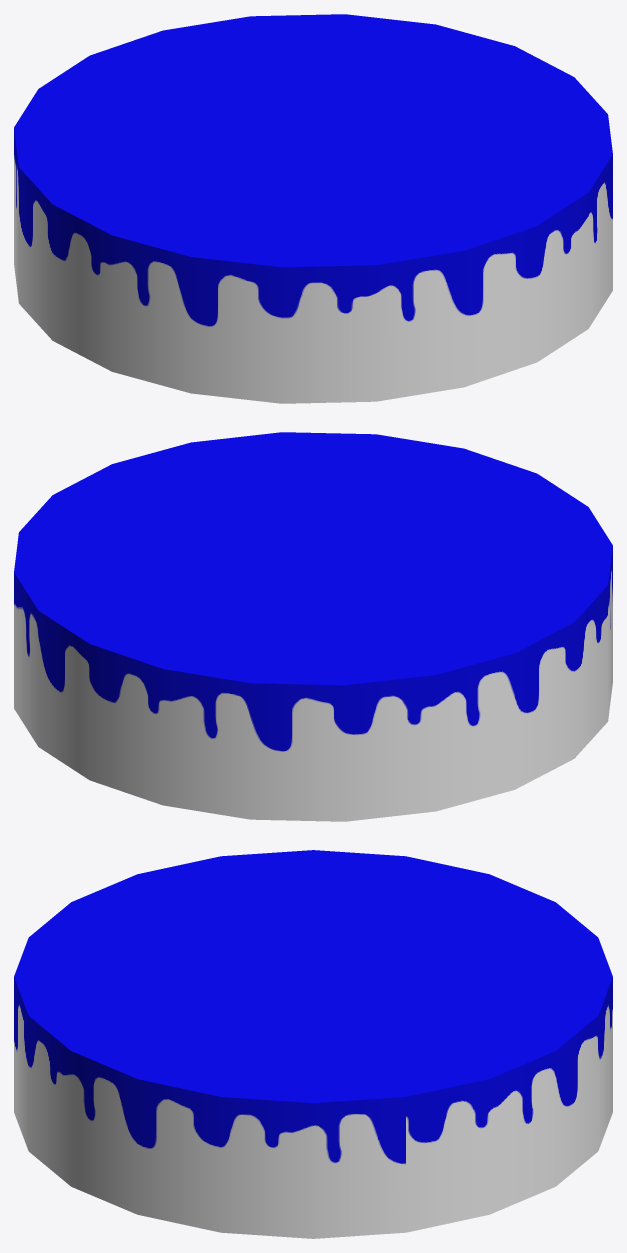
The model's file is BlueBig.fbx.
3 views of the same model, one above another, from view 1: azimuth 30°, elevation 25°; view 2: azimuth 150°, elevation 25°; view 3: azimuth 270°, elevation 25° (orthographic).
Parts seen in each view (by area): view 1: BlueBig; view 2: BlueBig; view 3: BlueBig.
Boxes of the visible parts, <box> form: BlueBig: <box>14,14,612,403</box>; BlueBig: <box>14,432,612,821</box>; BlueBig: <box>14,850,612,1238</box>.
Bounding box in the file's own units: 1000 × 250 × 1000.
